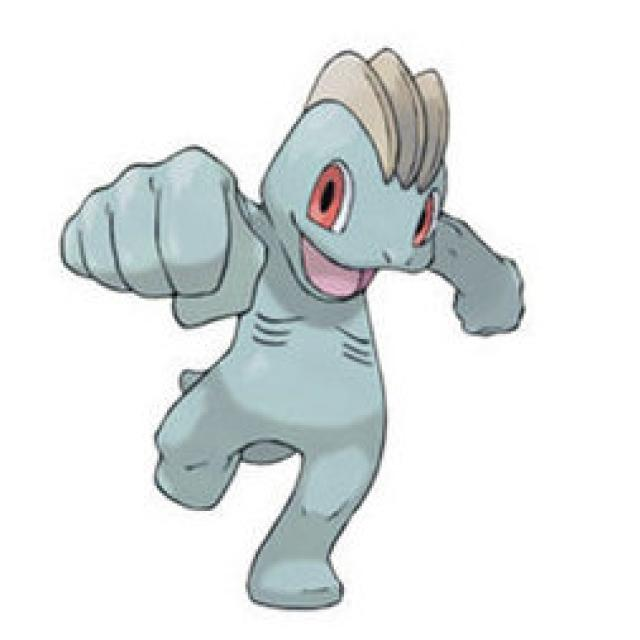Machop: (156, 65, 452, 593)
